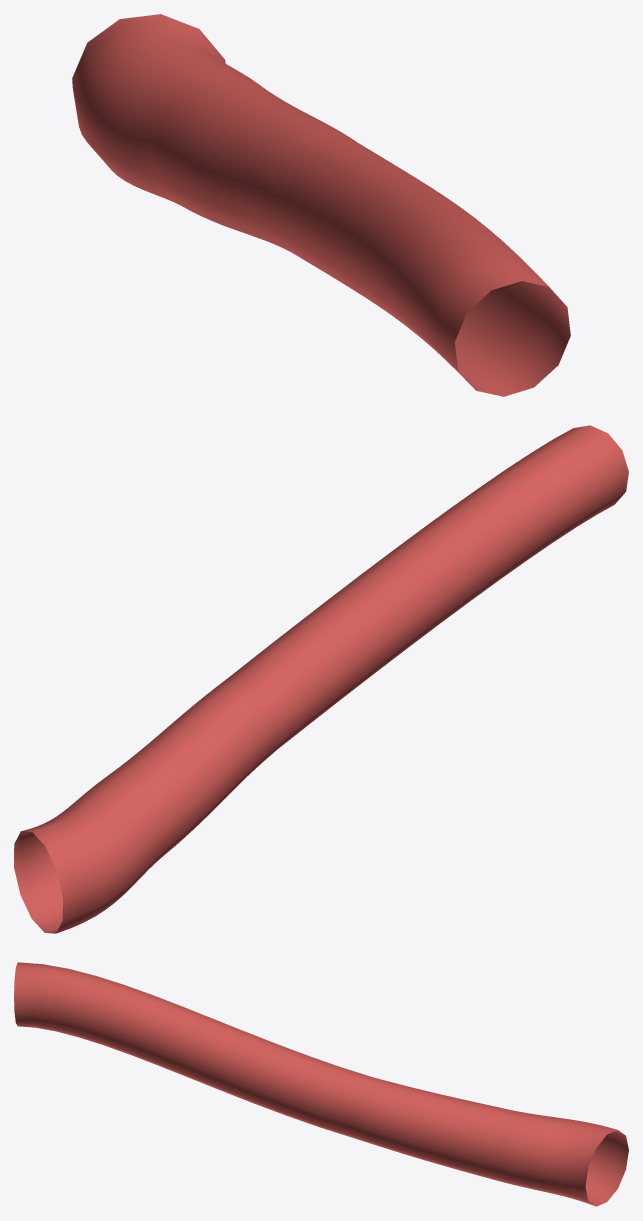
The picture shows the model from 3 angles, top to bottom: view 1: azimuth 30°, elevation 25°; view 2: azimuth 150°, elevation 25°; view 3: azimuth 270°, elevation 25°; orthographic projection. The views are drawn at different scales.
Parts seen in each view (by area): view 1: 右颈总动脉; view 2: 右颈总动脉; view 3: 右颈总动脉.
Boxes of the visible parts, x1,y1,x2,y2 form: 右颈总动脉: (72, 14, 570, 396); 右颈总动脉: (14, 425, 628, 933); 右颈总动脉: (14, 962, 628, 1206).
Size of the model in its own units: 0.0362 by 0.0371 by 0.1131.
